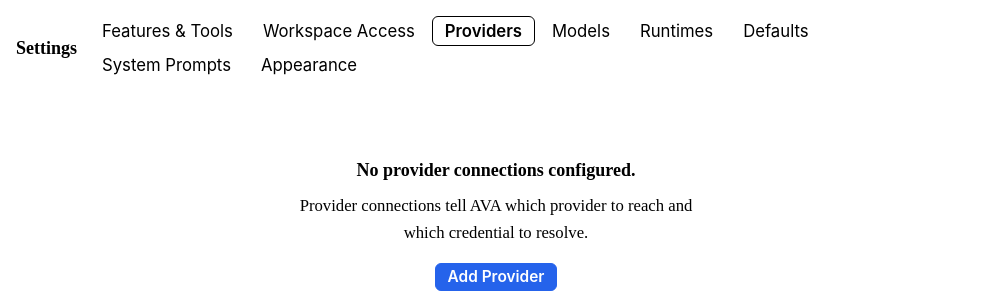
Test: Settings model section › keeps a disabled model visible
Click the tab "Models": (581, 31) [539,16,623,46]
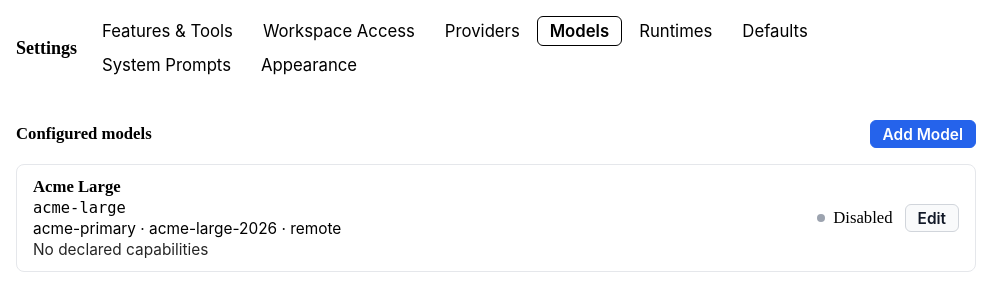
Expected: the text "Acme Large" is shown, [33,177,121,196]
Expected: the text "Disabled" is shown, [833,208,893,228]
